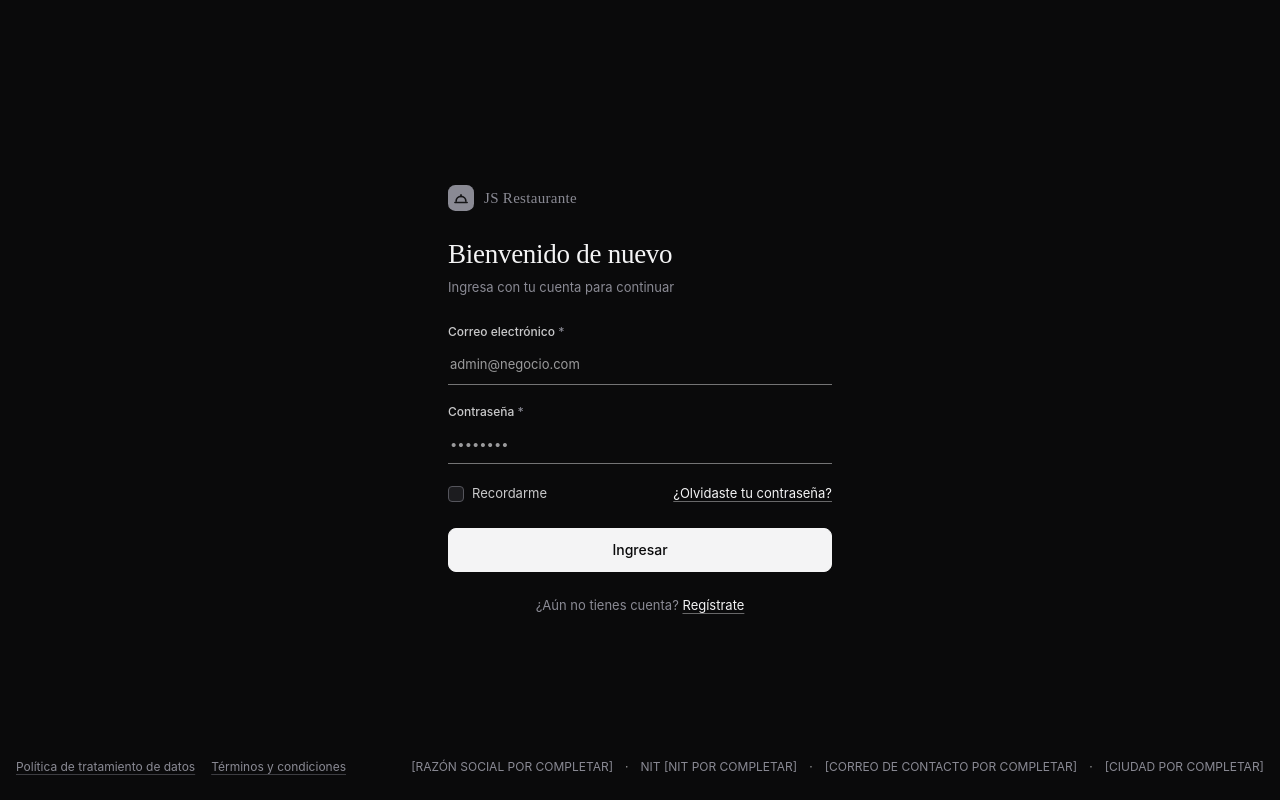
Scenario: LoginPage › credenciales malas (401): 'Correo o contraseña incorrectos.'
The image size is (1280, 800).
Type "admin@empresa.com" into the field labelled "Correo electrónico *". click: (640, 365)
box: left=448, top=345, right=832, bottom=385
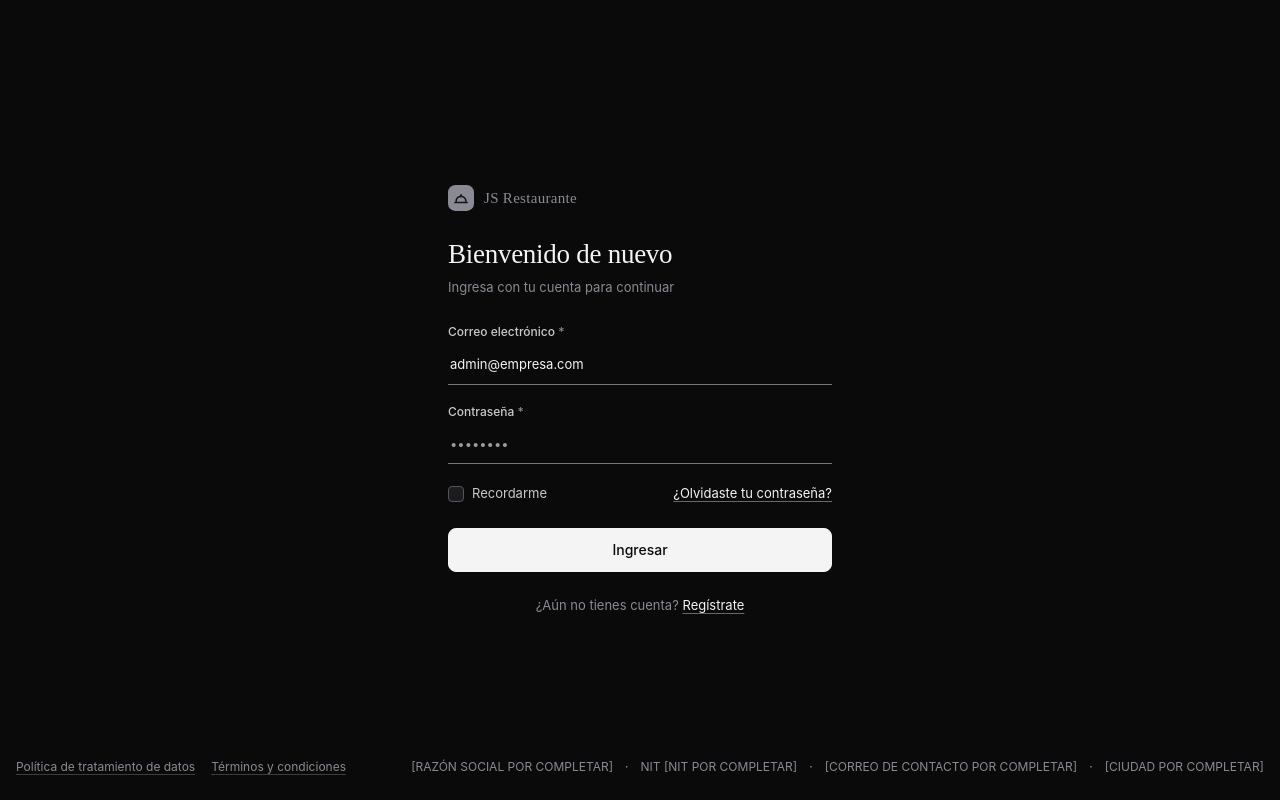
Type "clave-mala" into the password field labelled "Contraseña *". click: (640, 444)
box: left=448, top=424, right=832, bottom=464
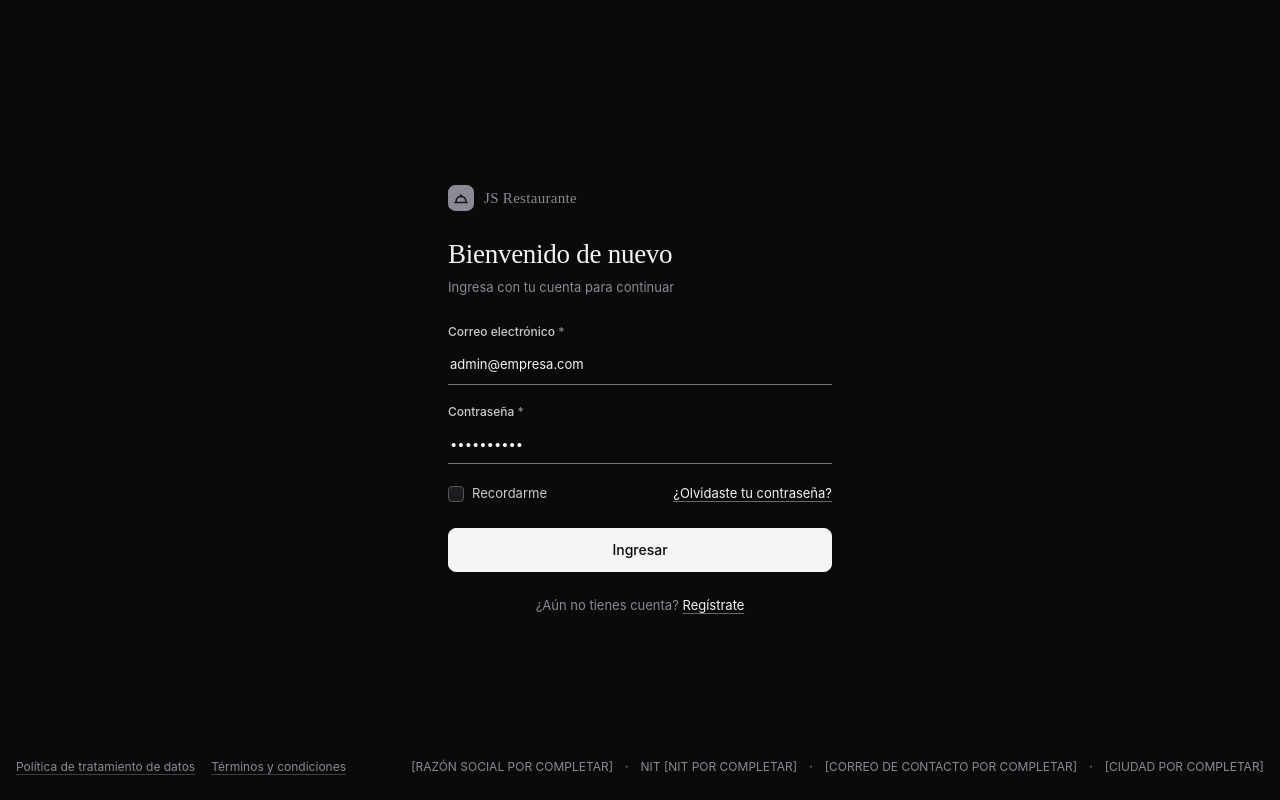
Click the button "Ingresar". click: click(640, 550)
box: left=448, top=528, right=832, bottom=572
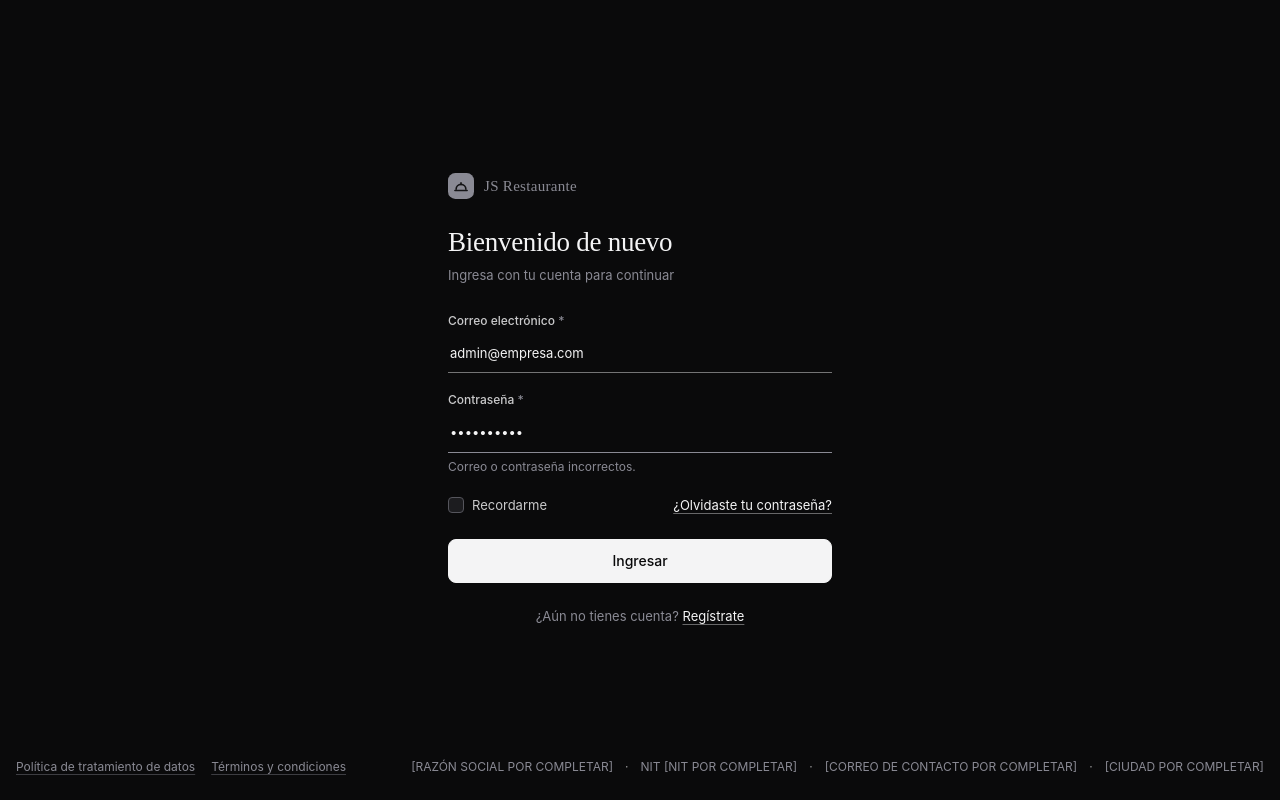
Result: the text "Correo o contraseña incorrectos." is shown at left=448, top=459, right=636, bottom=474
